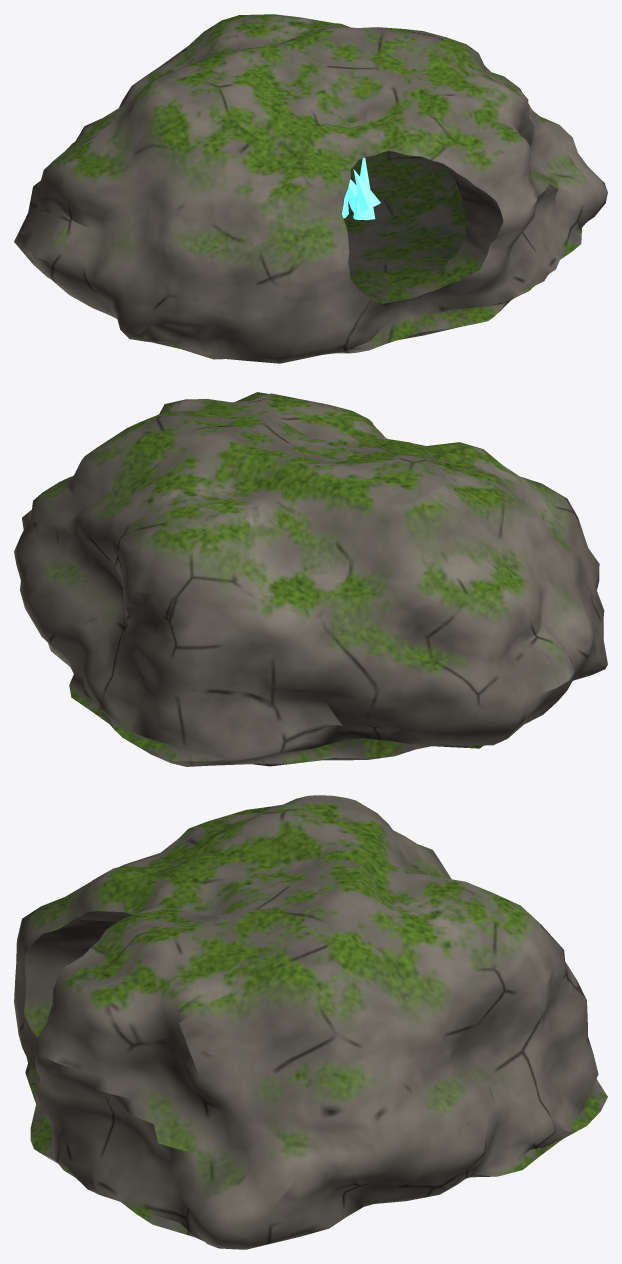
File: cave.glb
3 renders of one model, top to bottom at view 1: azimuth 30°, elevation 25°; view 2: azimuth 150°, elevation 25°; view 3: azimuth 270°, elevation 25°, orthographic. The views are drawn at different scales.
Visible parts, largest first — view 1: Cave, GlowCrystals; view 2: Cave; view 3: Cave.
Boxes of the visible parts, x1=… form: Cave: x1=14, y1=14, x2=607, y2=363; GlowCrystals: x1=342, y1=158, x2=380, y2=220; Cave: x1=14, y1=392, x2=607, y2=766; Cave: x1=14, y1=795, x2=607, y2=1249.
Size of the model in its own units: 2.6 by 1.02 by 2.1.
Materials: 2 (1 with a texture image).
